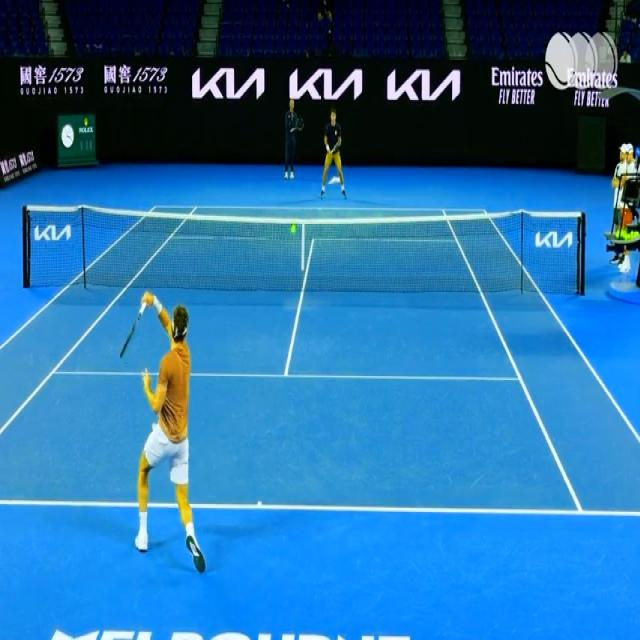forehand-finish: (110, 275, 204, 572)
